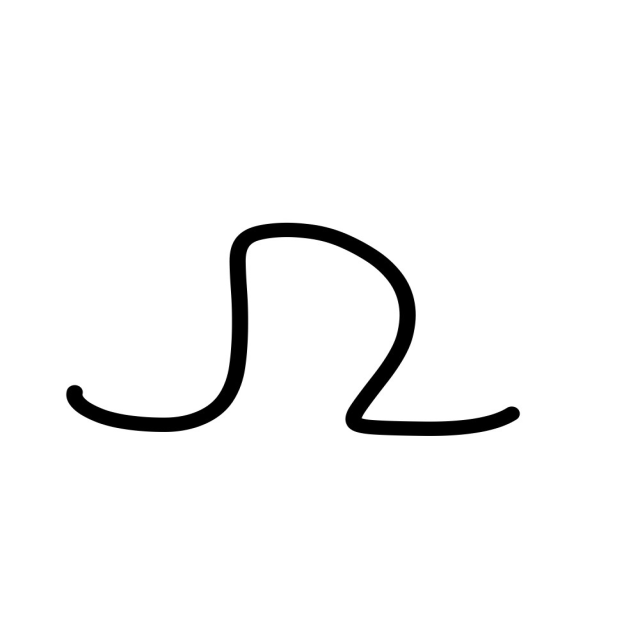ohms: (19, 138, 589, 510)
